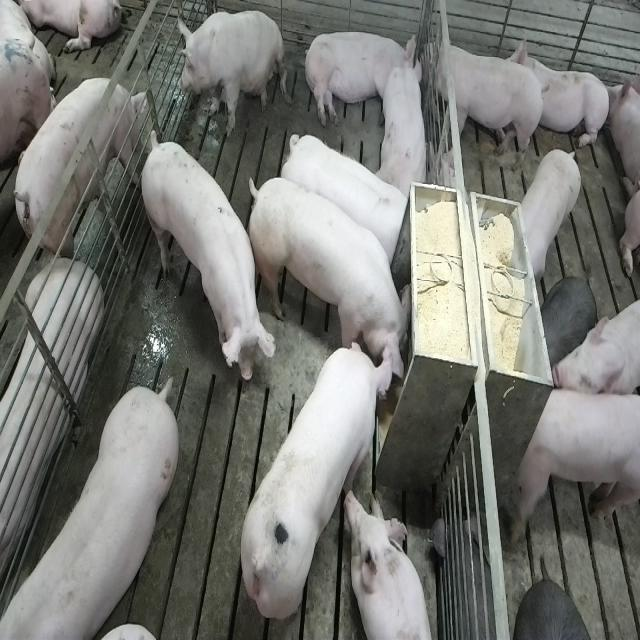Feeding: (238, 337, 398, 623), (251, 174, 418, 392)
Lateral_lying: (302, 28, 419, 128)
Sitting: (177, 7, 286, 138)
Standing: (0, 380, 177, 640), (137, 130, 272, 389), (8, 76, 145, 267), (512, 384, 639, 540), (424, 30, 547, 173), (281, 128, 410, 264), (514, 144, 584, 282), (538, 273, 599, 369)
Sternal_lying: (0, 260, 101, 599), (347, 489, 435, 640), (514, 33, 612, 156), (380, 46, 432, 201)
